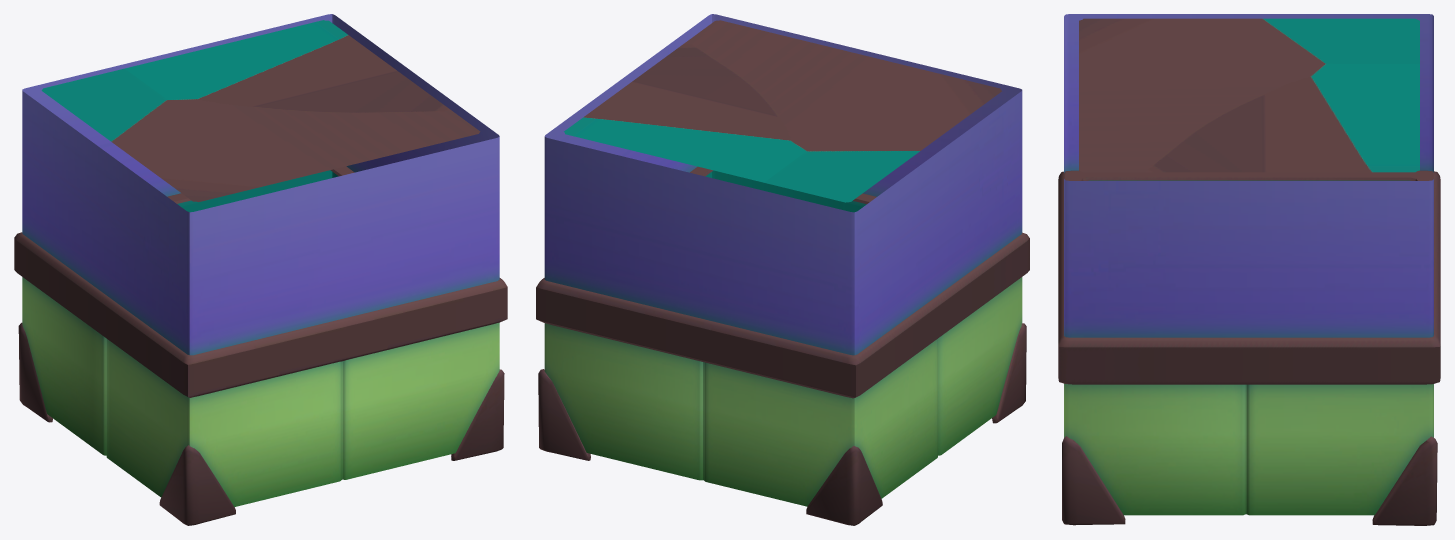
File: HoopsBoxWall4.fbx
The picture shows the model from 3 angles, left to right: view 1: azimuth 30°, elevation 25°; view 2: azimuth 150°, elevation 25°; view 3: azimuth 270°, elevation 25°; orthographic projection. The views are drawn at different scales.
Parts seen in each view (by area): view 1: ENV_S02_MovableBox_MO_0.001; view 2: ENV_S02_MovableBox_MO_0.001; view 3: ENV_S02_MovableBox_MO_0.001.
Part boxes in pixels (left/top/right/bottom): ENV_S02_MovableBox_MO_0.001: left=14, top=14, right=507, bottom=525; ENV_S02_MovableBox_MO_0.001: left=536, top=14, right=1029, bottom=525; ENV_S02_MovableBox_MO_0.001: left=1058, top=14, right=1440, bottom=525.
Size of the model in its own units: 12.26 by 11.49 by 11.51.
